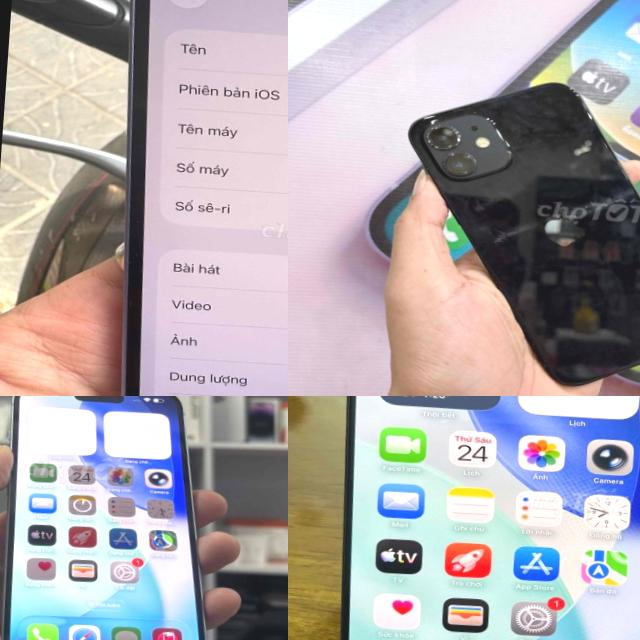gen_12_13: (383, 70, 640, 395), (82, 0, 288, 396)
gen_15: (0, 396, 229, 640)
gen_17: (337, 396, 640, 640)
